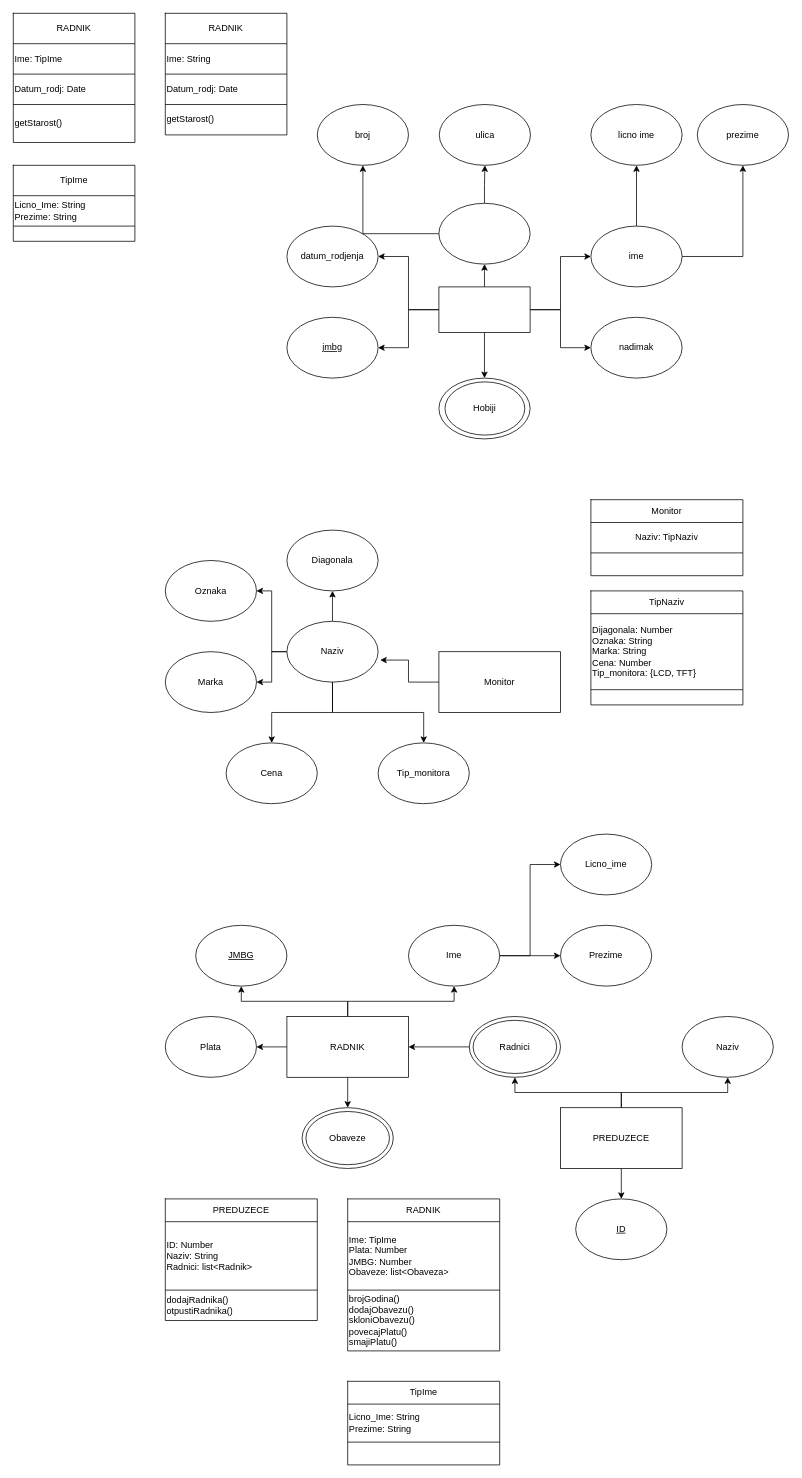
Some shapes in this 802 by 1478 pixel diagram are drawn without their labels. Each missing label, with the centre of its shape:
"adresa" belongs at pixel 484 233.
"STUDENT" belongs at pixel 484 309.
